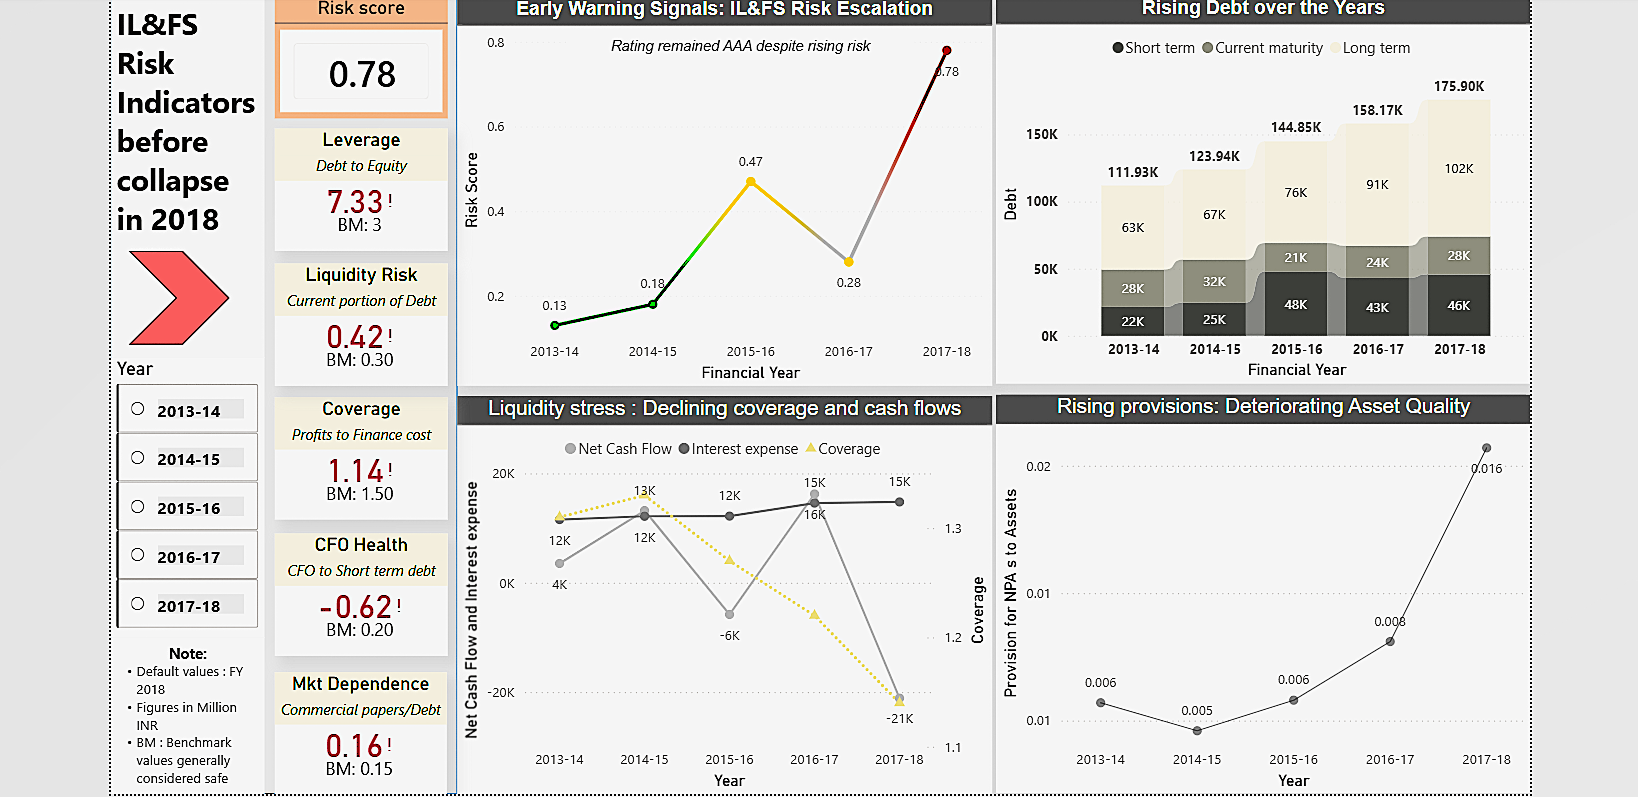

The dashboard page shown, as its layout file describes it:
{"tool":"powerbi","page":{"name":"Risk Indicators","canvas":[1280,720],"ordinal":1},"visuals":[{"type":"shape","box":[0,1.2,312.5,718.8],"z":0},{"type":"lineChart","title":"Early Warning Signals: IL&FS Risk Escalation ","fields":{"Category":["IL&FS data.Year"],"Y":["Sum(IL&FS data.Risk score)"]},"box":[312.2,0.8,482.1,350],"z":1000},{"type":"advancedSlicerVisual","fields":{"Values":["IL&FS data.Year"]},"box":[0,325.7,138.6,252.5],"z":2000},{"type":"cardVisual","title":"Risk score","fields":{"Data":["IL&FS data.RS"]},"box":[147.5,0,156.2,110],"z":3000},{"type":"columnChart","title":"Rising Debt over the Years","fields":{"Category":["IL&FS data.Year"],"Y":["Sum(IL&FS data.Short term Debt)","Sum(IL&FS data.Current maturity of long term borrowings)","Sum(IL&FS data.Long term Debt)"]},"box":[797.7,0.4,482.5,349.5],"z":4000},{"type":"lineChart","title":"Liquidity stress : Declining coverage and cash flows","fields":{"Category":["IL&FS data.Year"],"Y":["Sum(IL&FS data.Net Cash Change)","Sum(IL&FS data.Interest expense)"],"Y2":["Sum(IL&FS data.Coverage (EBITDA/Interest expense))"]},"box":[312.4,360.6,482.5,359.4],"z":5000},{"type":"lineChart","title":"Rising provisions: Deteriorating Asset Quality","fields":{"Category":["IL&FS data.Year"],"Y":["Sum(IL&FS data.Asset Quality (Provision/ Total Assets))"]},"box":[797.7,359.8,482.5,359.4],"z":6000},{"type":"textbox","box":[410,30,314.4,32.2],"z":7000},{"type":"kpi","title":"Leverage","fields":{"TrendLine":["IL&FS data.Year"],"Indicator":["Sum(IL&FS data.Leverage(Debt/ Equity))"],"Goal":["IL&FS data.Lev_BM"]},"box":[147.5,120,156.2,110],"z":8000},{"type":"kpi","title":"Coverage","fields":{"Indicator":["IL&FS data.Cov_R"],"Goal":["IL&FS data.Cov_BM"],"TrendLine":["IL&FS data.Year"]},"box":[147.5,361.2,156.2,110],"z":9000},{"type":"kpi","title":"CFO Health","fields":{"Indicator":["IL&FS data.Cash Flow"],"Goal":["IL&FS data.CF_BM"],"TrendLine":["IL&FS data.Year"]},"box":[147.5,485,156.2,110],"z":10000},{"type":"kpi","title":"Liquidity Risk","fields":{"Indicator":["IL&FS data.Liq_R"],"TrendLine":["IL&FS data.Year"],"Goal":["IL&FS data.Liq_BM"]},"box":[147.5,241.2,156.2,110],"z":11000},{"type":"kpi","title":"Mkt Dependence","fields":{"TrendLine":["IL&FS data.Year"],"Indicator":["Sum(IL&FS data.Market Dependence (Commercial Paper/ Total Debt))"],"Goal":["IL&FS data.Mark_BM"]},"box":[147.5,610,155,110],"z":12000},{"type":"textbox","box":[0,1.1,138.6,324.6],"z":13000},{"type":"textbox","box":[0,578.2,138.6,142],"z":15000},{"type":"shape","box":[15.8,229.9,91.3,84.5],"z":16500}]}

Visuals, with their boxes on the page's 1280x720 design canvas (x1, y1, x2, y2). These are canvas units, not pixel positions in the 1638x797 screenshot, which may show the page scaled, cropped or inside an application window:
shape: [0, 1, 312, 720]
"Early Warning Signals: IL&FS Risk Escalation " lineChart: [312, 1, 794, 351]
advancedSlicerVisual - IL&FS data.Year: [0, 326, 139, 578]
"Risk score" cardVisual: [148, 0, 304, 110]
"Rising Debt over the Years" columnChart: [798, 0, 1280, 350]
"Liquidity stress : Declining coverage and cash flows" lineChart: [312, 361, 795, 720]
"Rising provisions: Deteriorating Asset Quality" lineChart: [798, 360, 1280, 719]
textbox: [410, 30, 724, 62]
"Leverage" kpi: [148, 120, 304, 230]
"Coverage" kpi: [148, 361, 304, 471]
"CFO Health" kpi: [148, 485, 304, 595]
"Liquidity Risk" kpi: [148, 241, 304, 351]
"Mkt Dependence" kpi: [148, 610, 302, 720]
textbox: [0, 1, 139, 326]
textbox: [0, 578, 139, 720]
shape: [16, 230, 107, 314]
